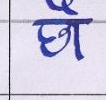au_matra: (60, 0, 90, 58)
